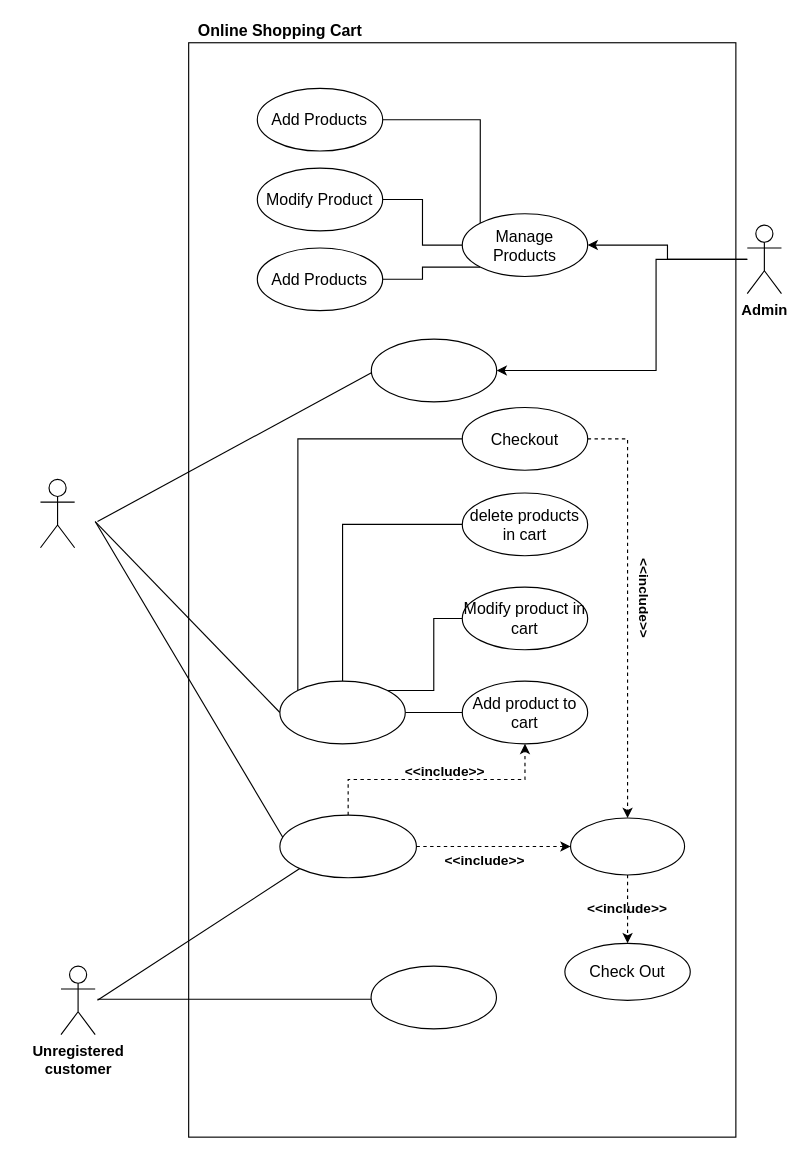
This 807x1157 diagram has some shape labels left out. The shapes that lost their labels are listed below. From the top down, each one's box as (x1, y1, x2, y2) in pixels, then its label:
(370, 338, 497, 402): Login
(39, 478, 75, 548): Registered Customer
(279, 680, 405, 744): Manage Cart
(279, 814, 416, 878): View Products
(569, 817, 685, 875): Make Payment
(370, 965, 496, 1029): Register
